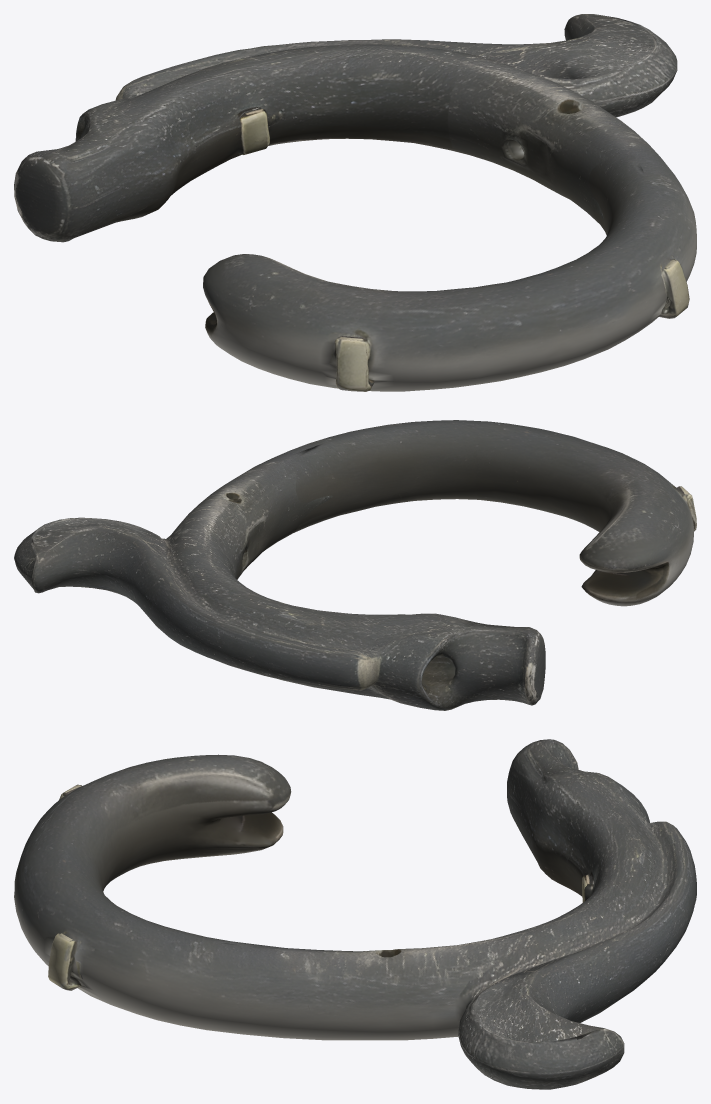
3 views of the same model, one above another, from view 1: azimuth 30°, elevation 25°; view 2: azimuth 150°, elevation 25°; view 3: azimuth 270°, elevation 25° (orthographic). The views are drawn at different scales.
Parts seen in each view (by area): view 1: material; view 2: material; view 3: material.
Part boxes in pixels (x1=…): material: x1=14, y1=14, x2=696, y2=391; material: x1=14, y1=420, x2=696, y2=710; material: x1=14, y1=739, x2=696, y2=1089.
Bounding box in the file's own units: 1.9 × 0.2871 × 1.84.
1 material, 1 textured.
